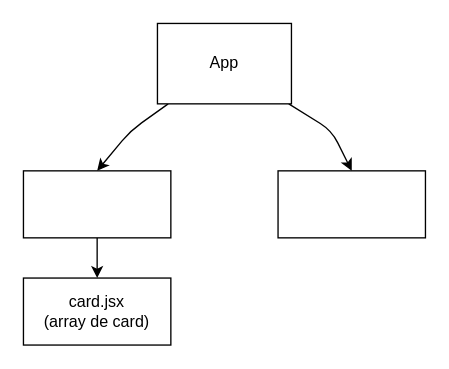
This 449x369 diagram has some shape labels left out. Each missing label, with the centre of its shape:
Cards (redenriza as cartas): (x=96, y=204)
Rodapé (mostra os acertos e erros): (x=351, y=204)
